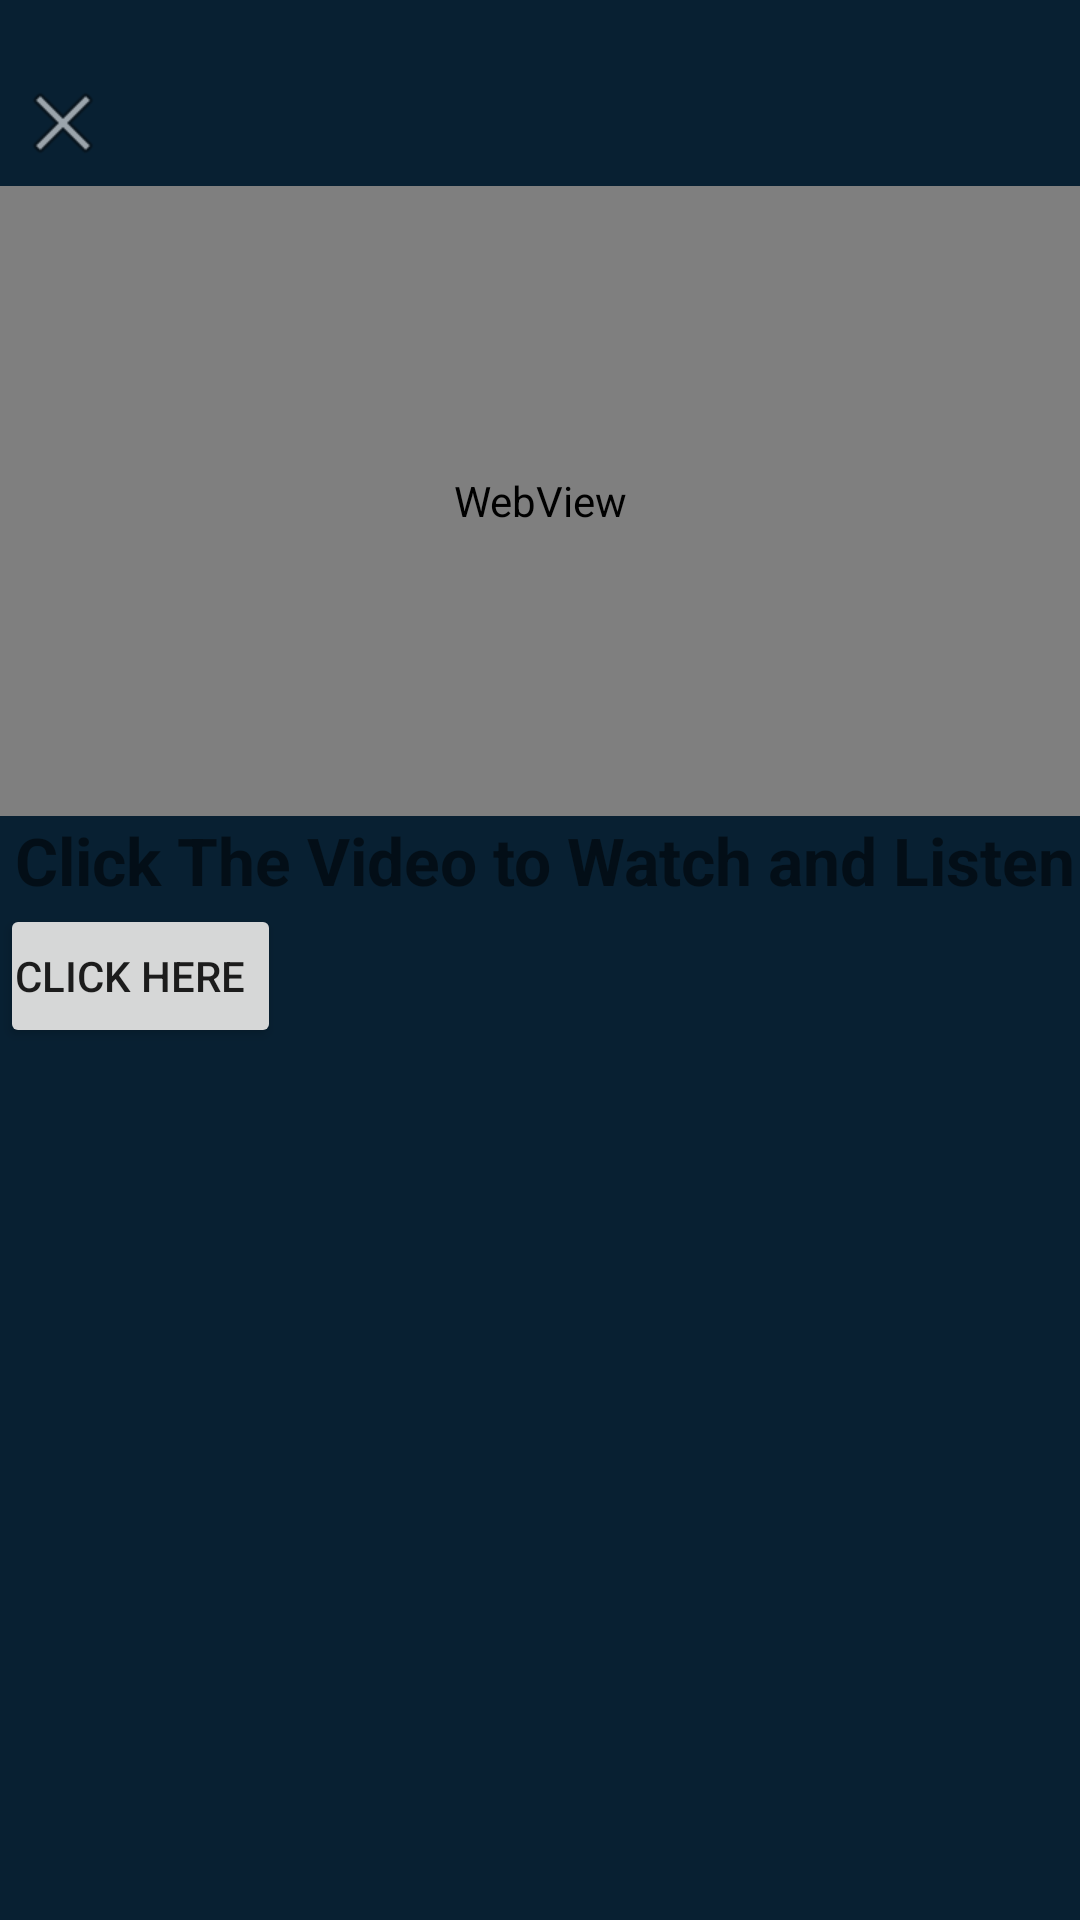

Named icons in this screenshot (1080x1920) and their bounding boxes, (x1,y1,x2,y2):
close clear cancel: (36,96,90,150)
